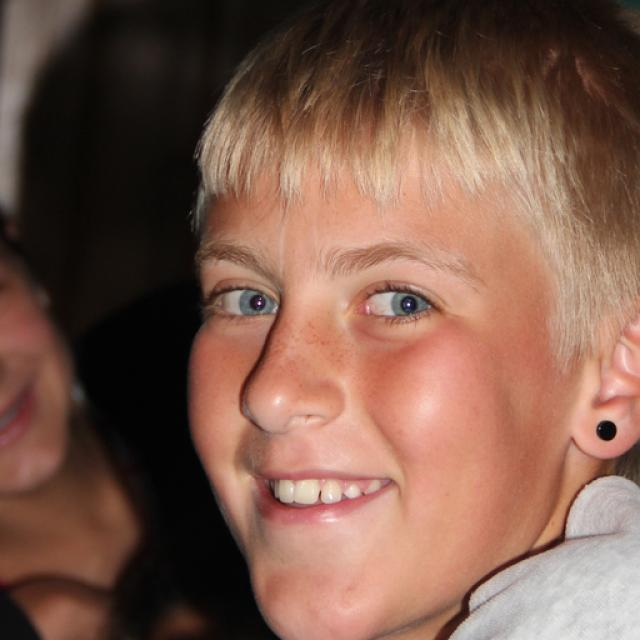0_rostro_limpio: (186, 24, 640, 640)
